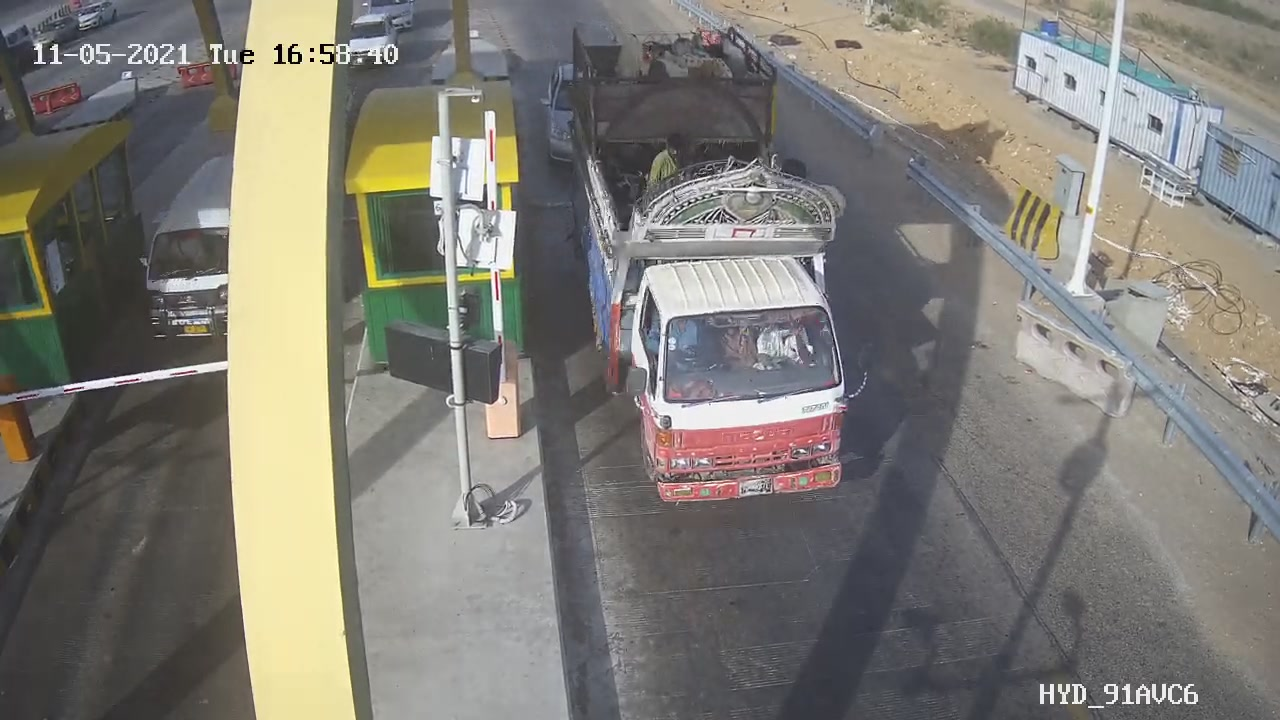F5: (551, 14, 894, 520)
